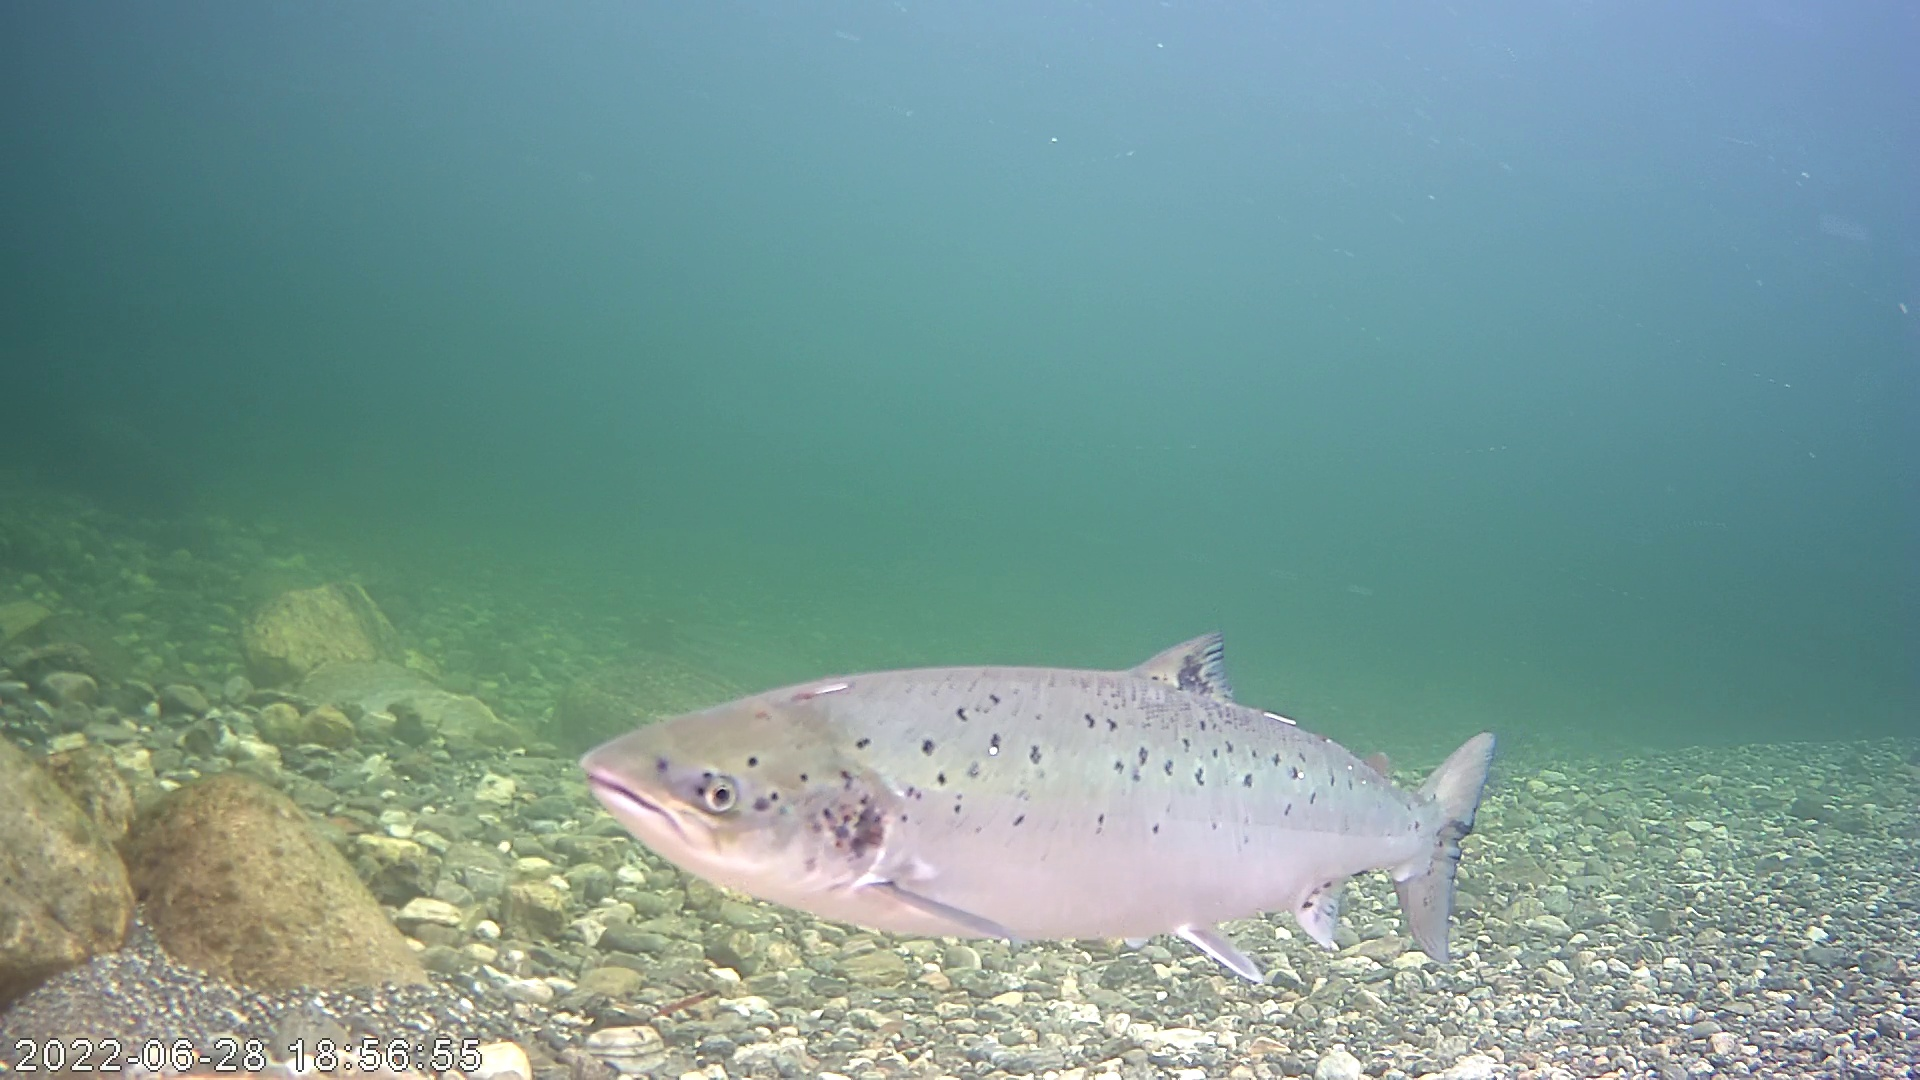salmon: (547, 556, 1501, 953)
